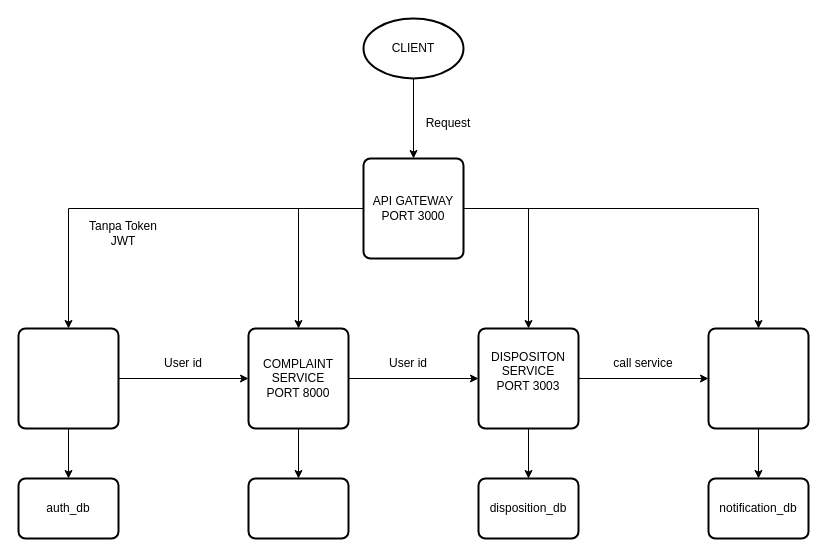
Image size: 826x556. Some labels were removed from this diagram. The box of each missing label's shape, as (x1, y1, x2, y2) in pixels:
AUTH SERVICE PORT 3001: (17, 327, 119, 429)
complaint_db: (247, 477, 349, 539)
NOTIFICATION SERVICE PORT 3004: (707, 327, 809, 429)
